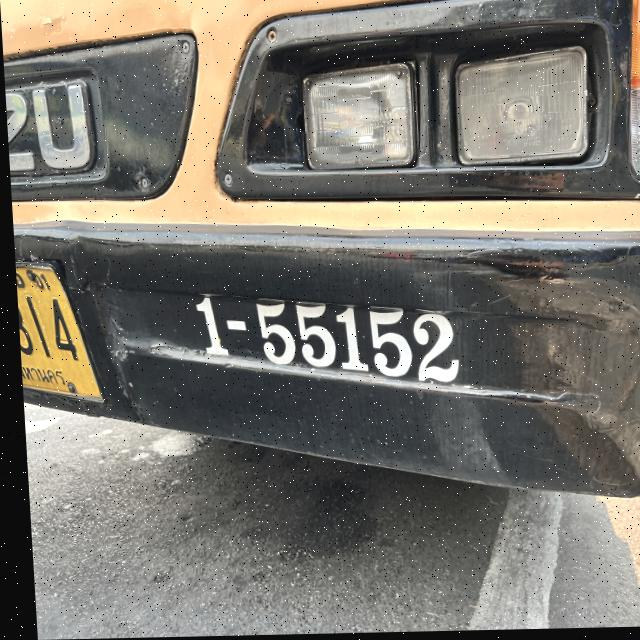BMTA-bus: (0, 0, 640, 513)
